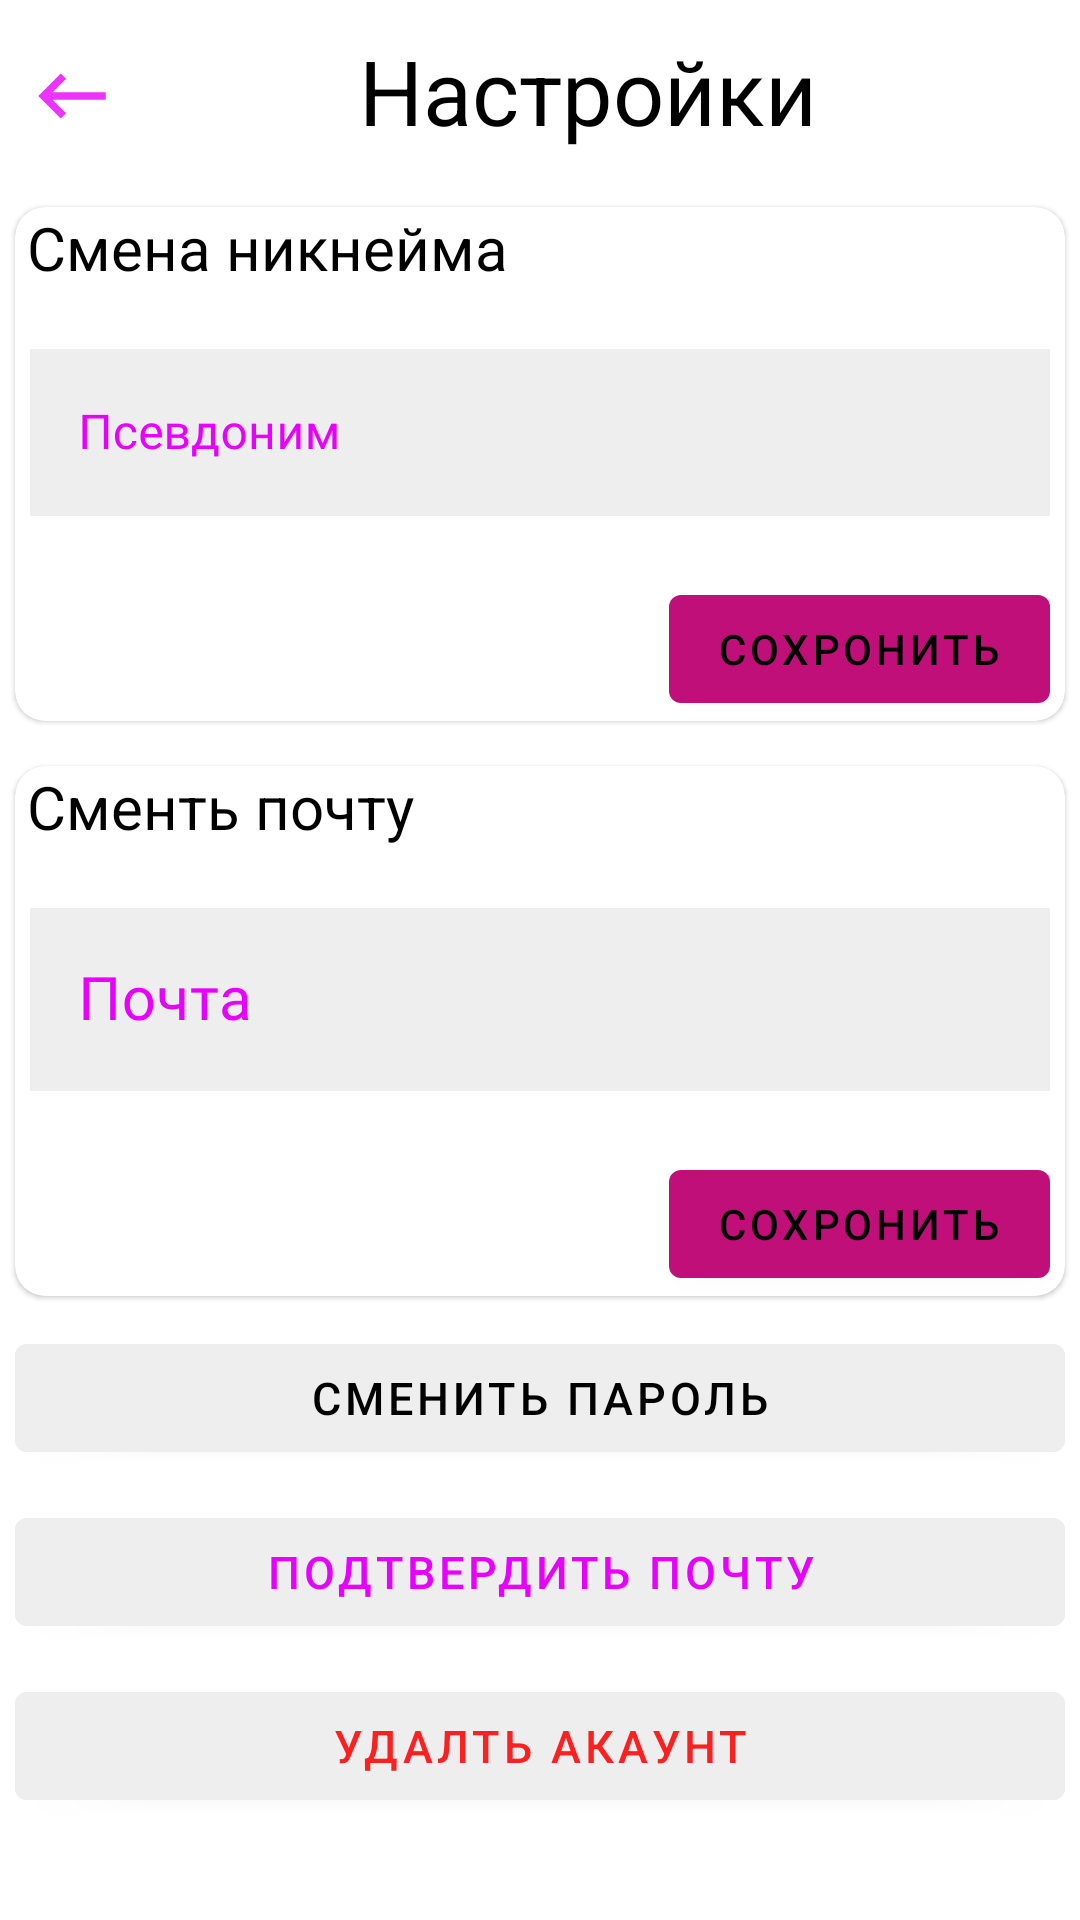

Icons on this 1080 x 1920 Android screen, each with the point to tap as (x=x, y=y):
back item: (x=72, y=96)
